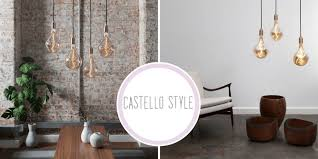bulb: (291, 36, 314, 72), (96, 32, 117, 70), (81, 53, 106, 82), (41, 25, 61, 60), (251, 33, 273, 63), (268, 16, 285, 52), (64, 43, 83, 75)
